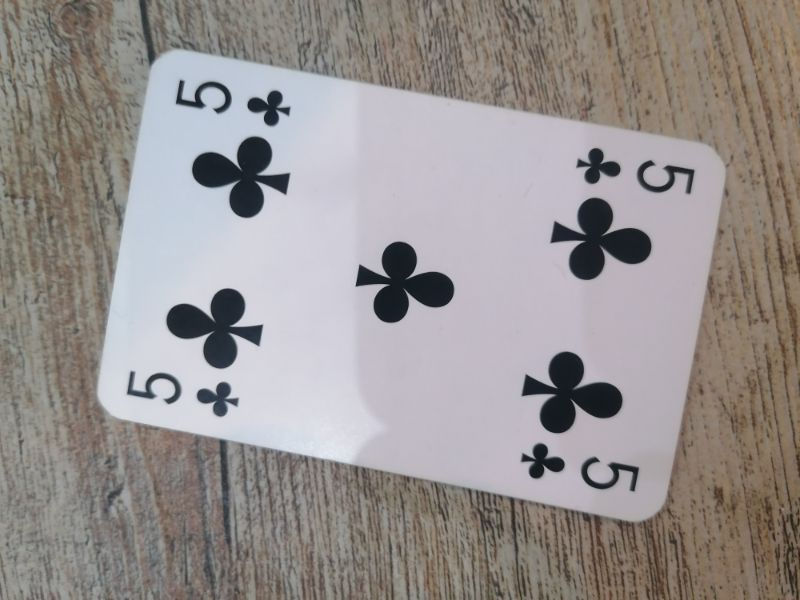5c: (517, 437, 643, 498), (169, 74, 297, 130), (119, 362, 243, 418), (571, 143, 699, 196)
